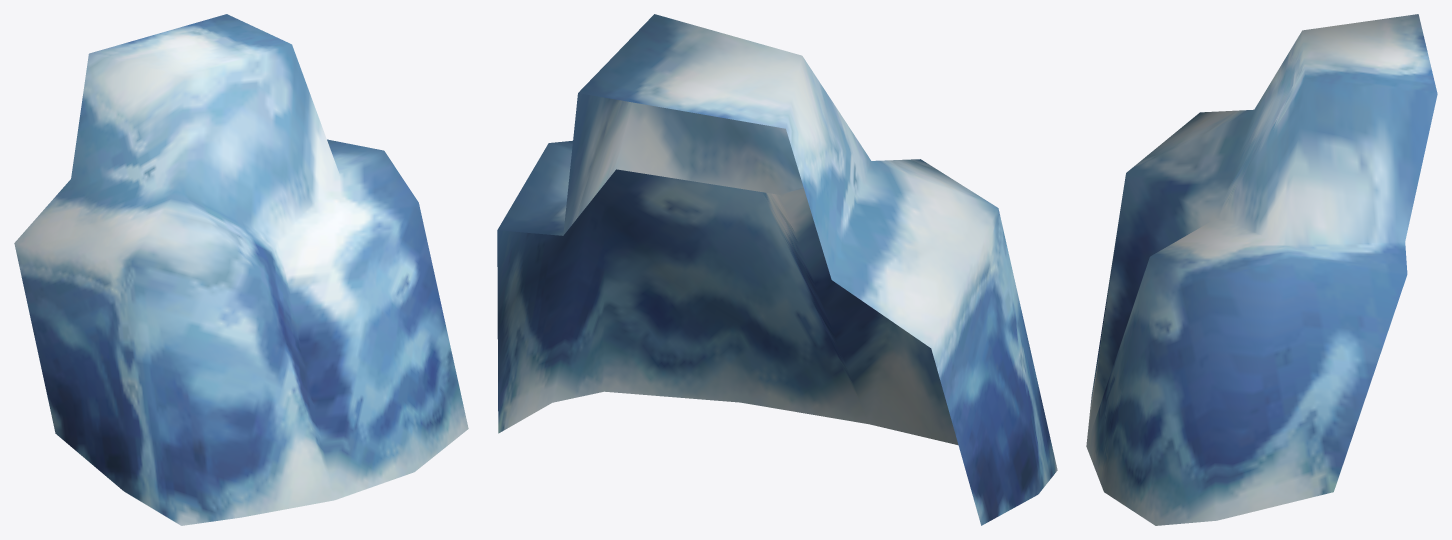
Rendered from SM_stoneE_02.fbx.
The picture shows the model from 3 angles, left to right: view 1: azimuth 30°, elevation 25°; view 2: azimuth 150°, elevation 25°; view 3: azimuth 270°, elevation 25°; orthographic projection. The views are drawn at different scales.
Visible parts, largest first — view 1: SM_stoneE_02; view 2: SM_stoneE_02; view 3: SM_stoneE_02.
Part boxes in pixels (x1=…): SM_stoneE_02: x1=14, y1=14, x2=468, y2=525; SM_stoneE_02: x1=497, y1=14, x2=1057, y2=525; SM_stoneE_02: x1=1086, y1=14, x2=1437, y2=525.
Size of the model in its own units: 1.68 by 1.63 by 1.31.
